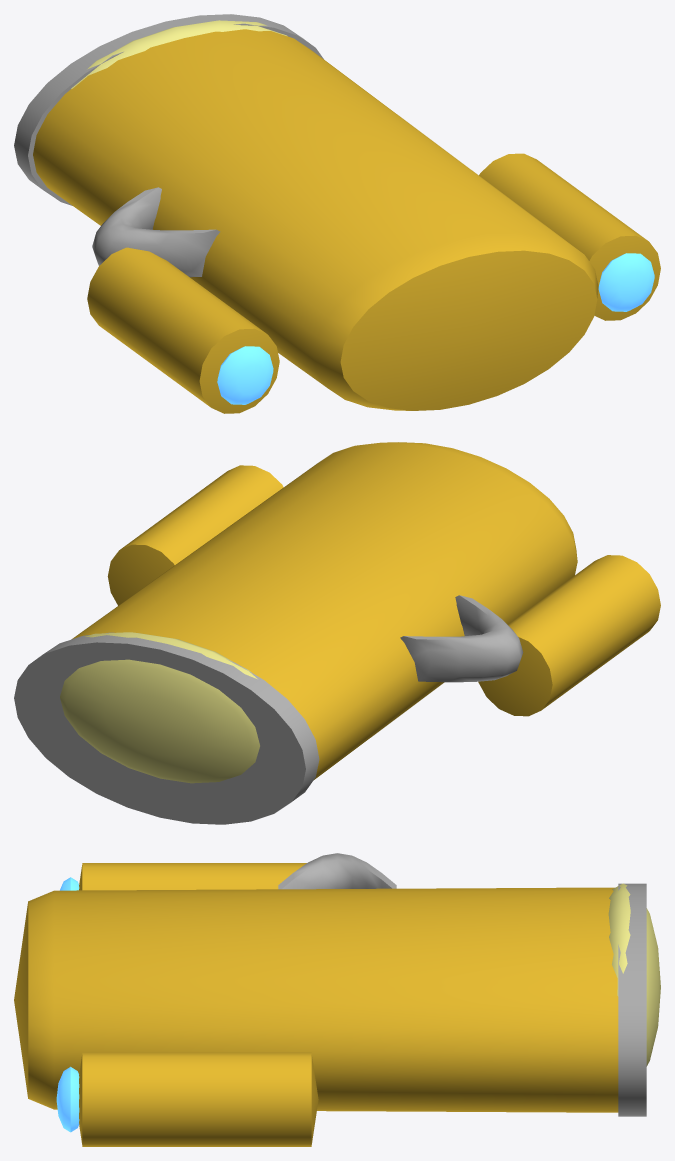
Rendered from petezoomer.glb.
3 renders of one model, top to bottom at view 1: azimuth 30°, elevation 25°; view 2: azimuth 150°, elevation 25°; view 3: azimuth 270°, elevation 25°, orthographic. The views are drawn at different scales.
Visible parts, largest first — view 1: mug, can, can.001, rim, handle, thruster, thruster.001, foam; view 2: mug, rim, foam, can, can.001, handle; view 3: mug, can.001, rim, can, foam, handle, thruster.001.
Part boxes in pixels (left/top/right/bottom): mug: left=33, top=29, right=598, bottom=410; can: left=87, top=247, right=279, bottom=413; can.001: left=479, top=153, right=660, bottom=320; rim: left=14, top=14, right=323, bottom=205; handle: left=92, top=187, right=220, bottom=277; thruster: left=217, top=346, right=273, bottom=404; thruster.001: left=598, top=253, right=654, bottom=311; foam: left=71, top=20, right=287, bottom=88; mug: left=71, top=442, right=577, bottom=779; rim: left=14, top=632, right=319, bottom=824; foam: left=60, top=632, right=259, bottom=783; can: left=478, top=555, right=660, bottom=716; can.001: left=107, top=465, right=283, bottom=605; handle: left=400, top=595, right=523, bottom=682; mug: left=14, top=887, right=618, bottom=1112; can.001: left=79, top=1052, right=318, bottom=1146; rim: left=618, top=883, right=646, bottom=1116; can: left=79, top=863, right=306, bottom=890; foam: left=608, top=883, right=660, bottom=1066; handle: left=278, top=853, right=396, bottom=889; thruster.001: left=56, top=1066, right=79, bottom=1132.
Size of the model in its own units: 23 by 8.45 by 27.4.
